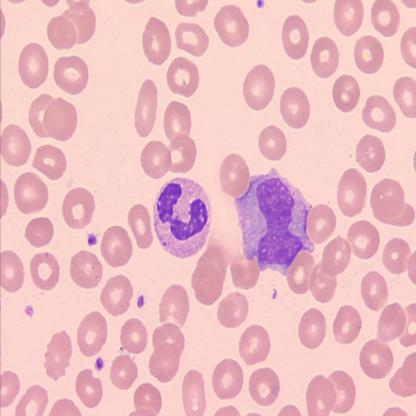Monocyte: (232, 164, 316, 278)
